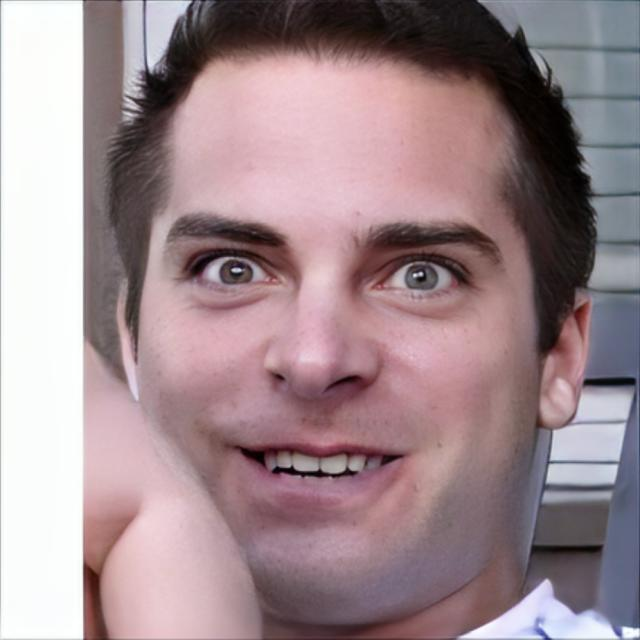surprise: (137, 34, 538, 626)
